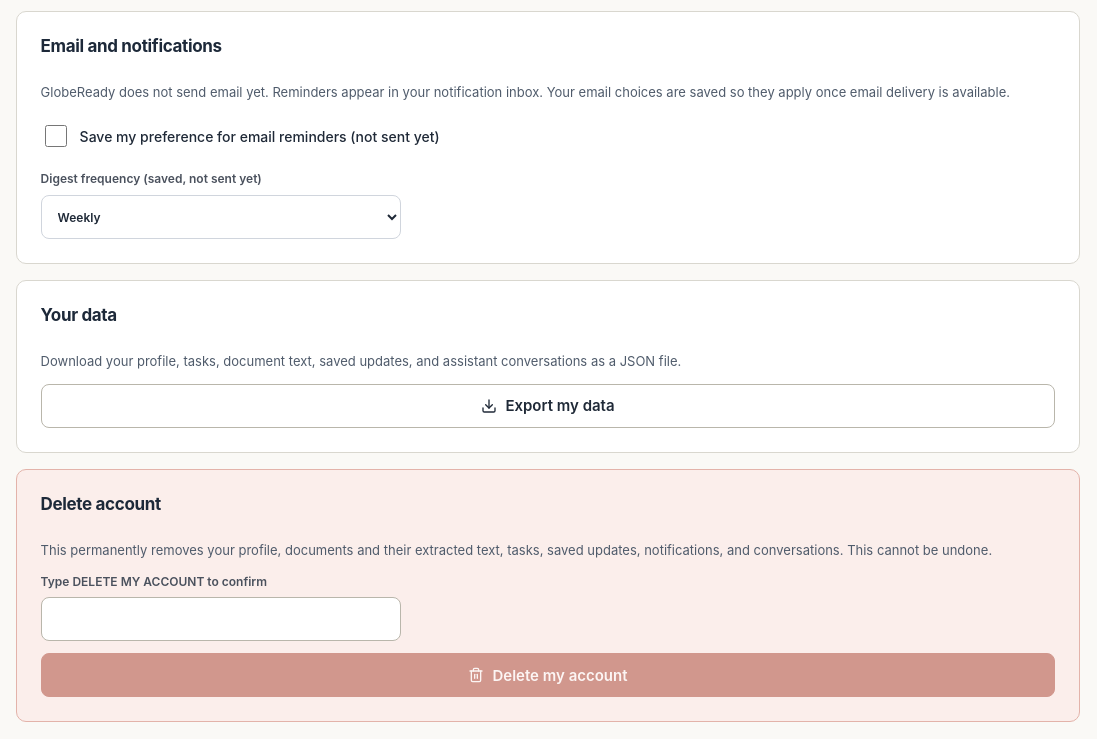
Scenario: account settings: export, preferences, and confirmed deletion › keeps deletion disabled until the exact confirmation phrase is typed
(page scrolled)
Expected: the button "Delete my account" is disabled, 41,653 -> 1055,697
Type "delete" into the field labelled "Type DELETE MY ACCOUNT to confirm".
click(221, 619); type("delete")  # box 41,597 -> 401,641
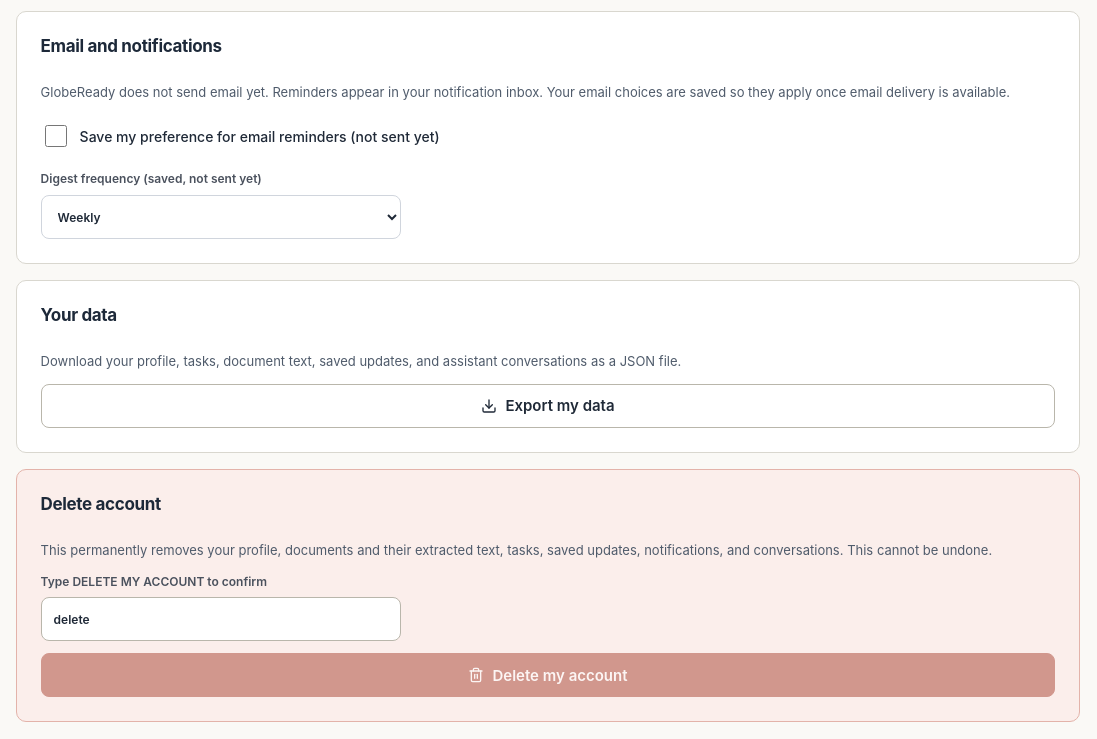
Expected: the button "Delete my account" is disabled, 41,653 -> 1055,697
Replace the text in the field labelled "Type DELETE MY ACCOUNT to confirm" with "DELETE MY ACCOUNT" at [221, 619], box 41,597 -> 401,641
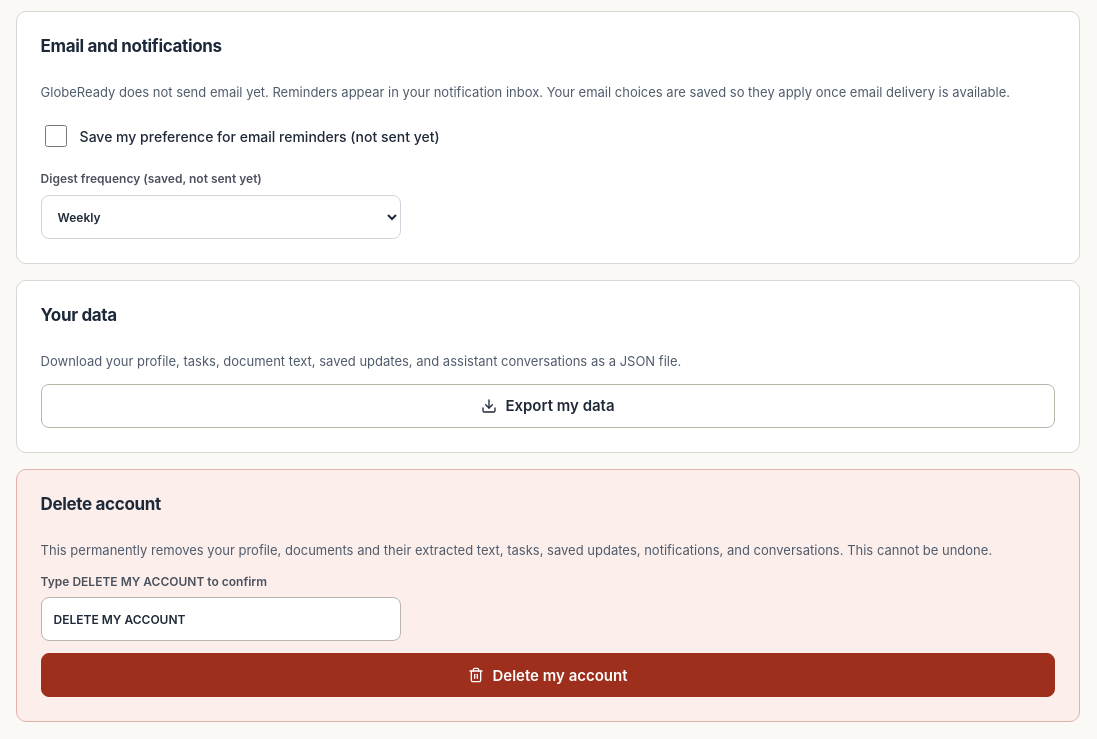
Result: the button "Delete my account" is enabled at 41,653 -> 1055,697
